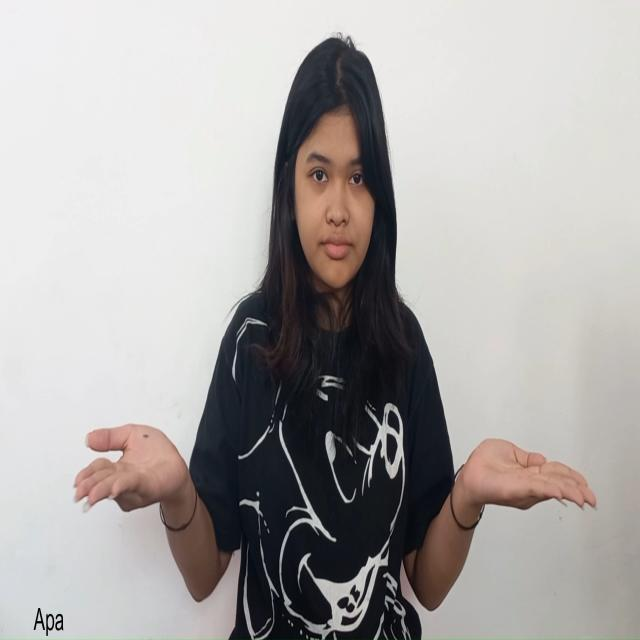Apa -BISINDO-: (72, 419, 600, 541)
